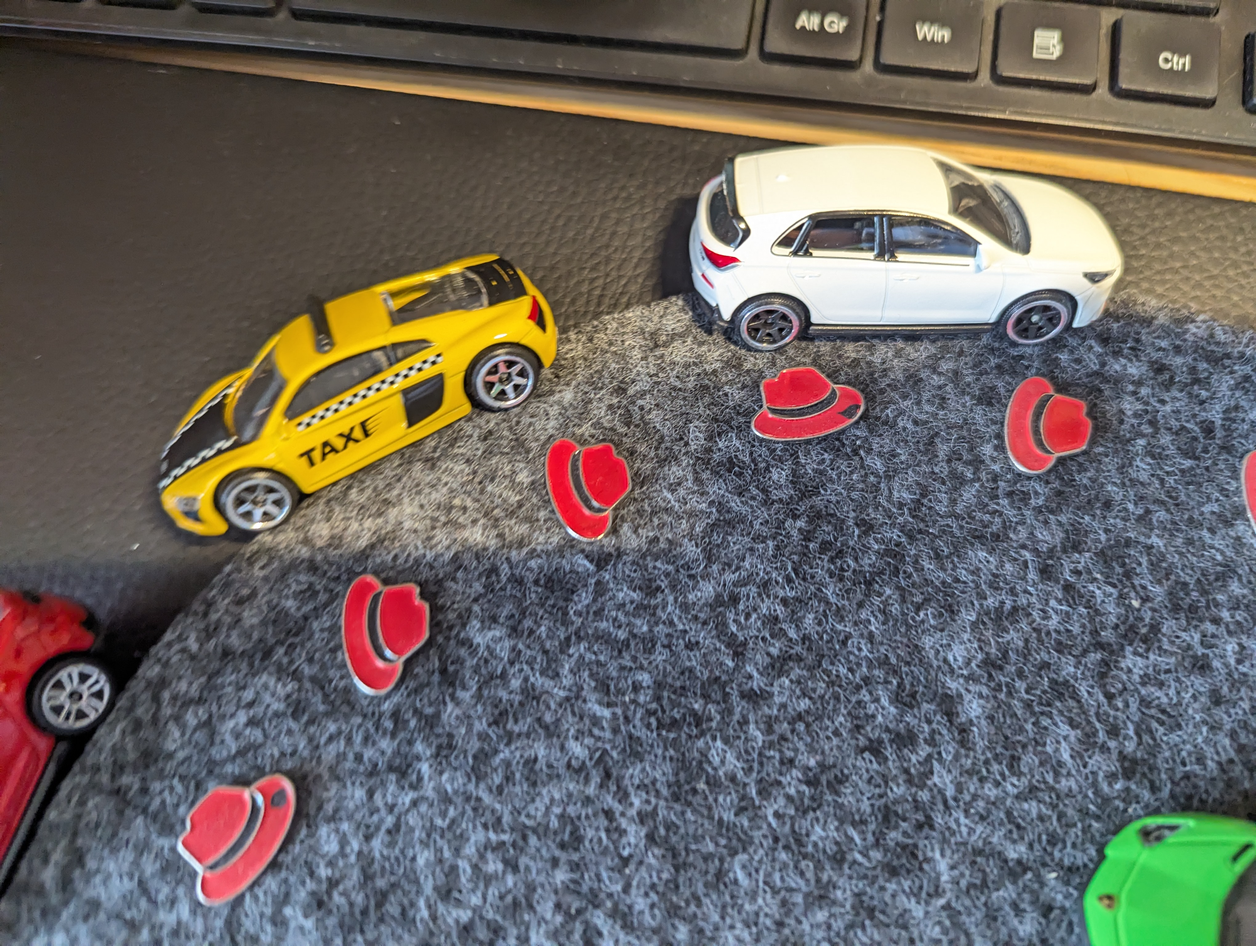Car: (106, 235, 632, 534), (659, 124, 1138, 374)
Red-Hat: (157, 764, 348, 915), (334, 557, 461, 704), (532, 422, 657, 563), (992, 363, 1093, 502), (742, 357, 882, 450)
Scratch: (263, 781, 303, 817), (831, 399, 876, 431)
